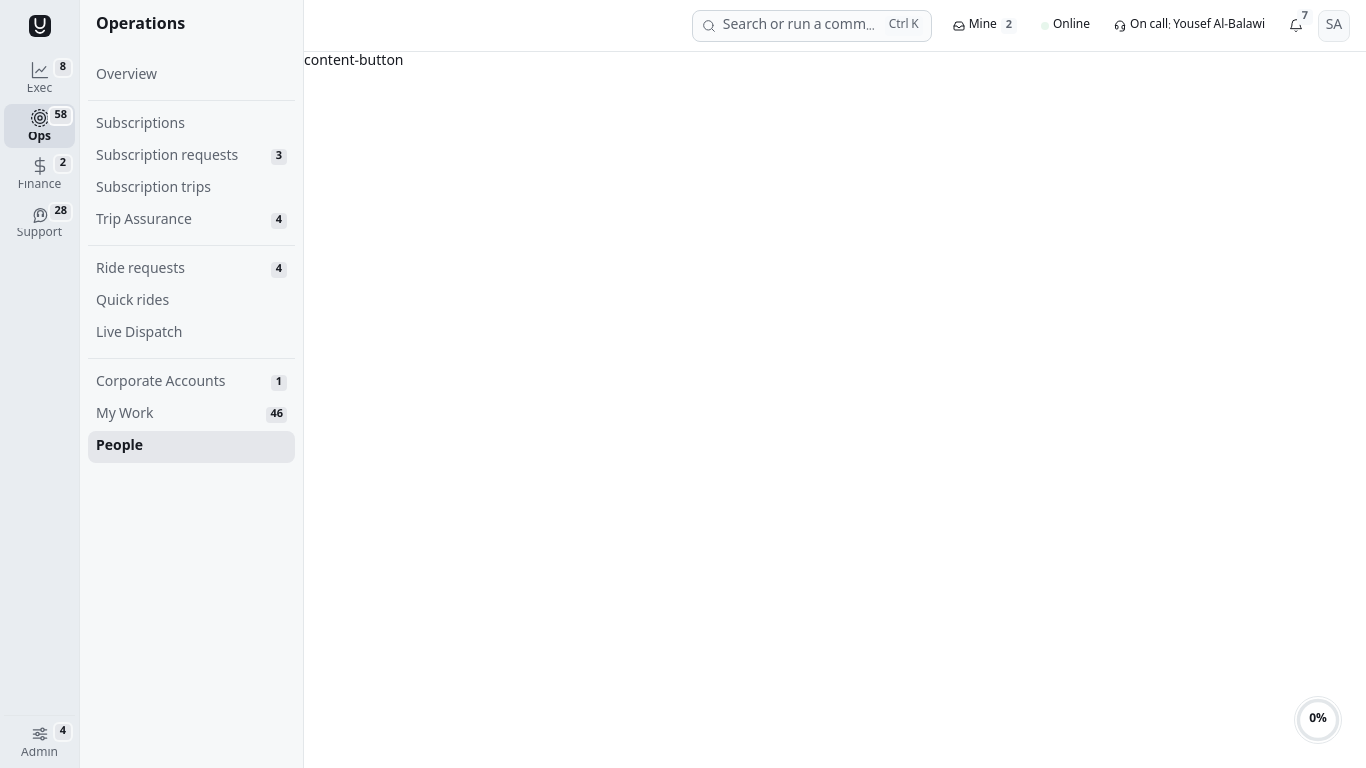
Test: AC-66 — "Escape closes the open shell layer, any menu, any sheet and any modal, and returns focus to the control that opened it" › closes the account menu on Escape and returns focus to the avatar
The image size is (1366, 768).
expect the element showing "content-button" is shown: met, box [304,52,404,72]
Click the button with aria-label "Account" at (1334, 26), box [1318,10,1350,42]
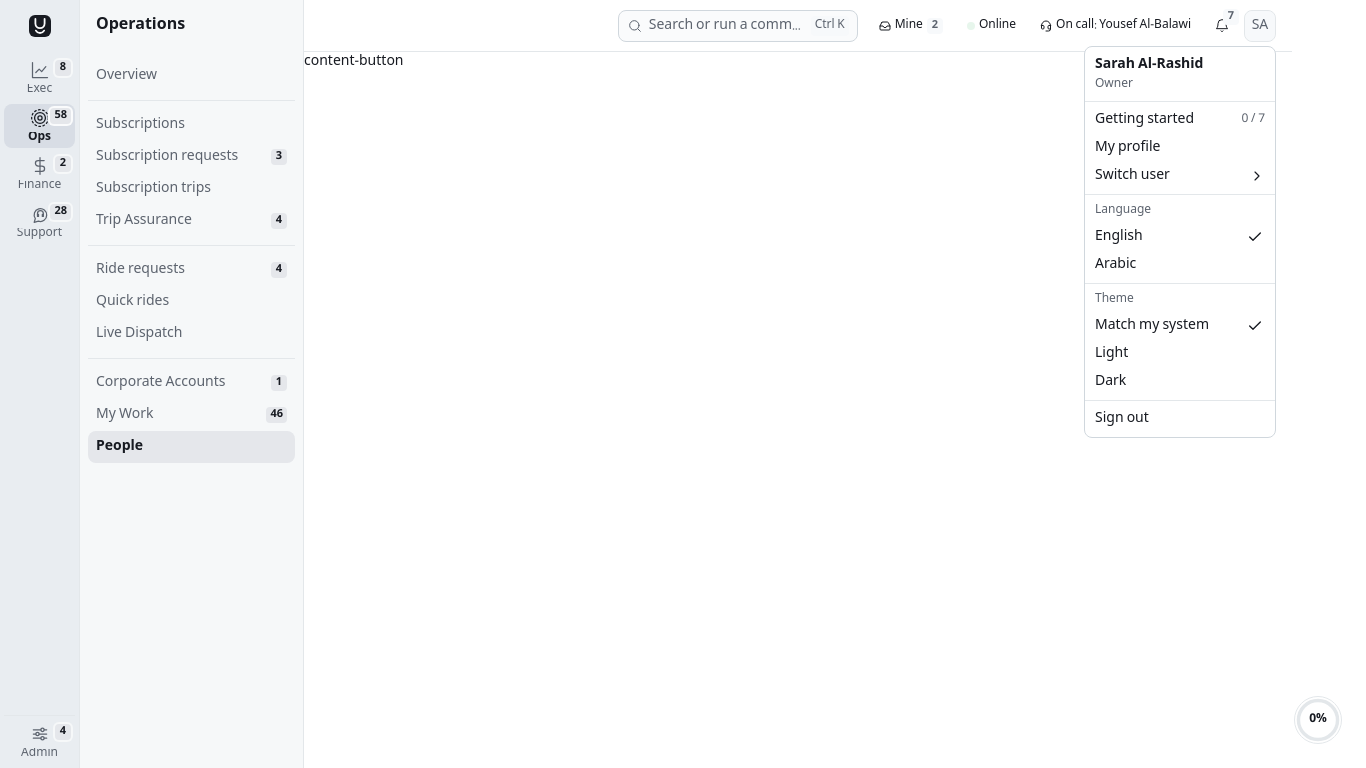
expect the menu is shown: met, box [1084,46,1276,438]
Press Escape
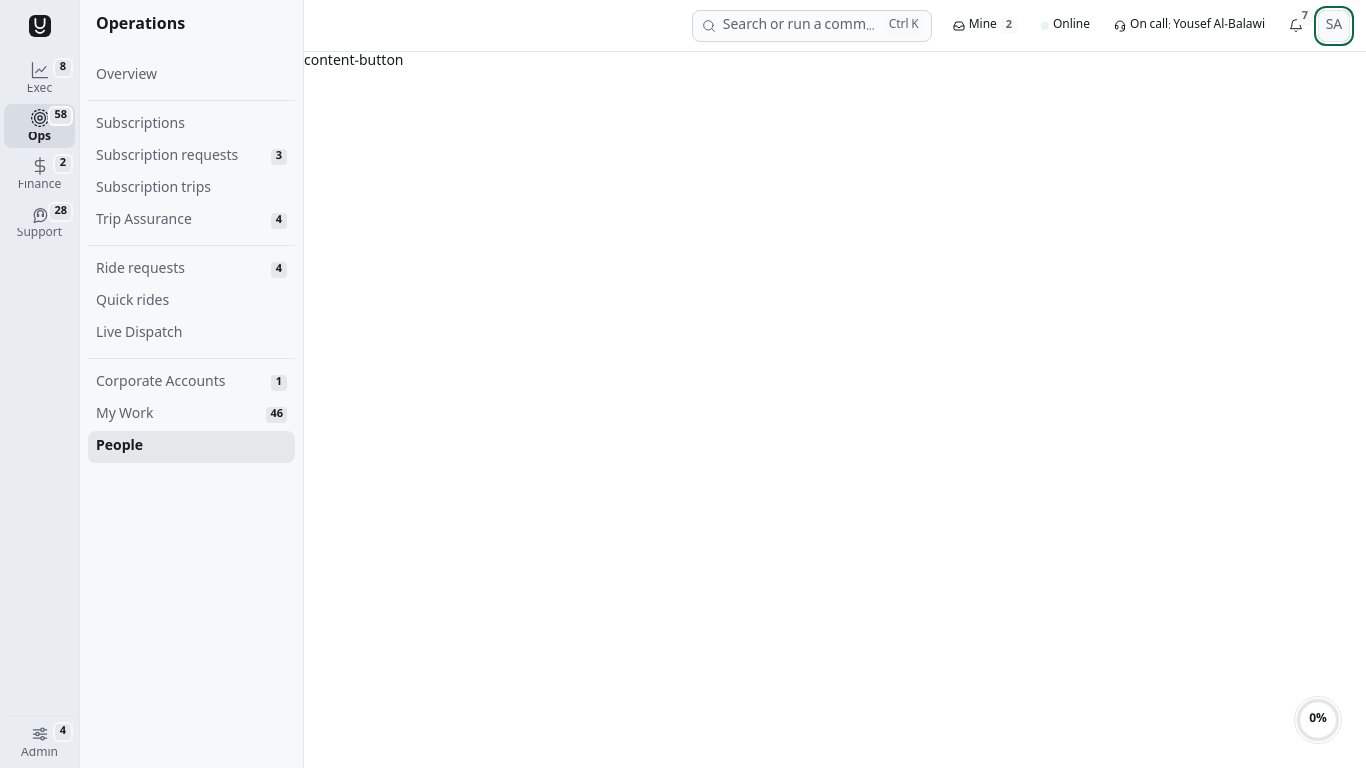
expect the menu is gone: met
